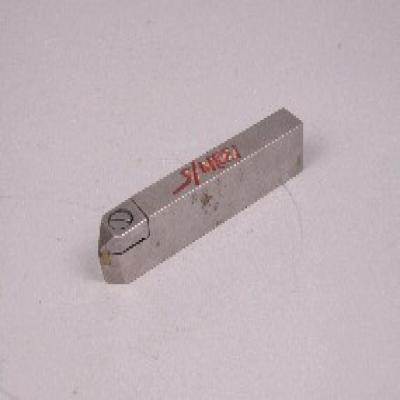technique: (97, 109, 305, 286)
